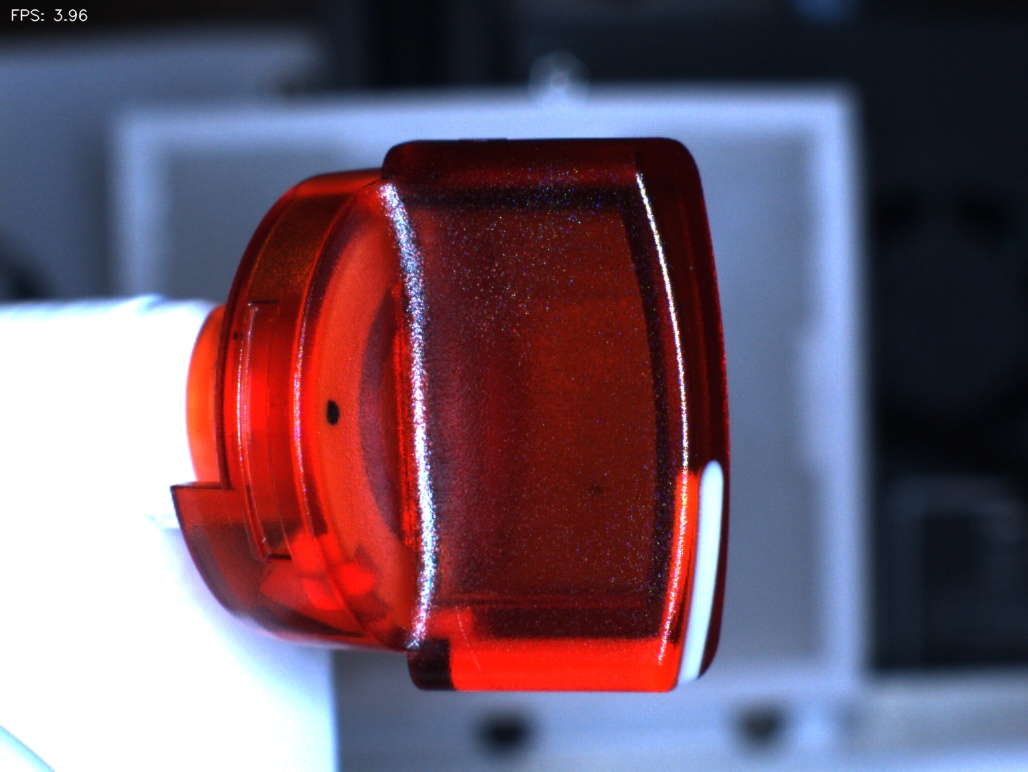PointNoir: (295, 374, 377, 451)
